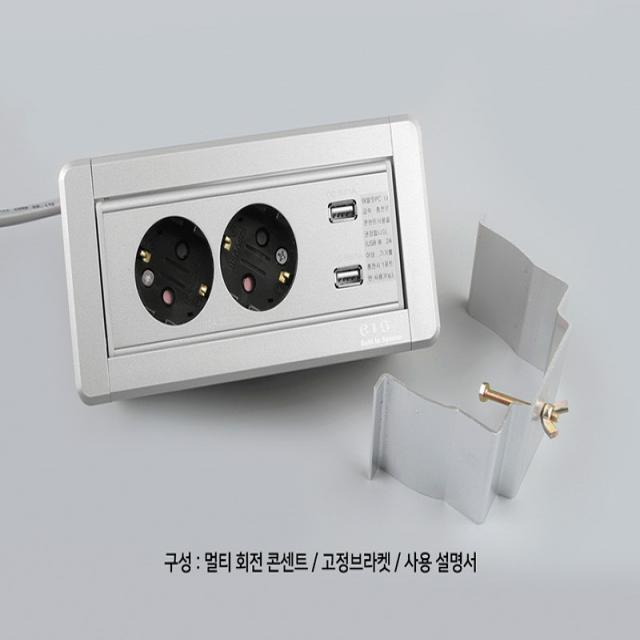typeb: (41, 125, 333, 404)
